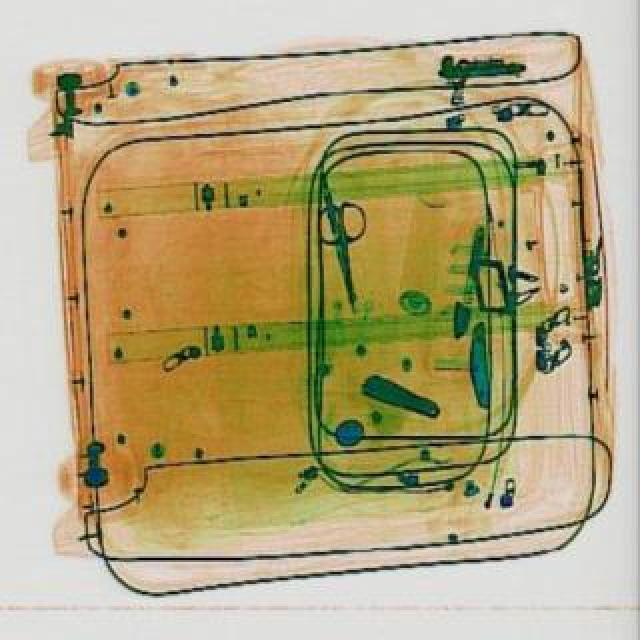pliers: (316, 204, 380, 306)
